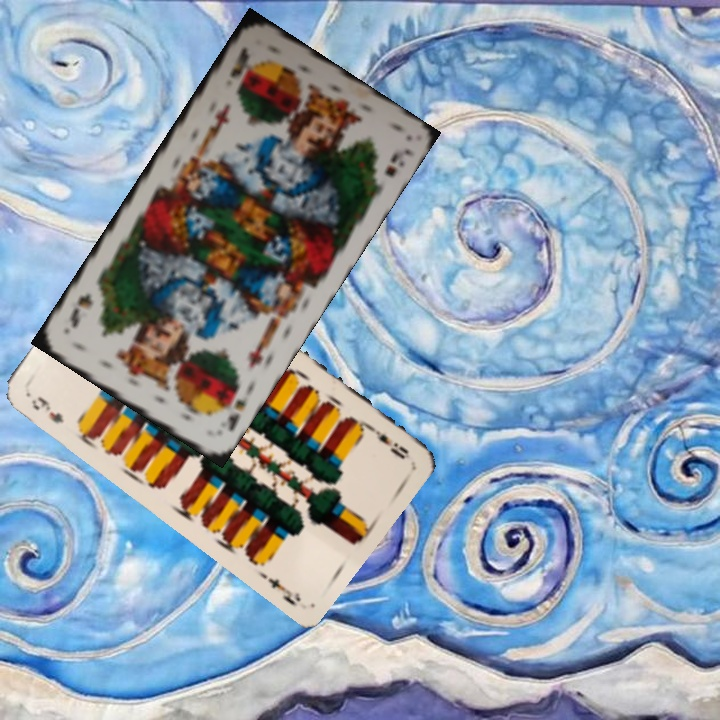E9: (363, 420, 413, 462), (27, 392, 67, 426)
SK: (218, 380, 254, 435), (225, 42, 252, 80)
